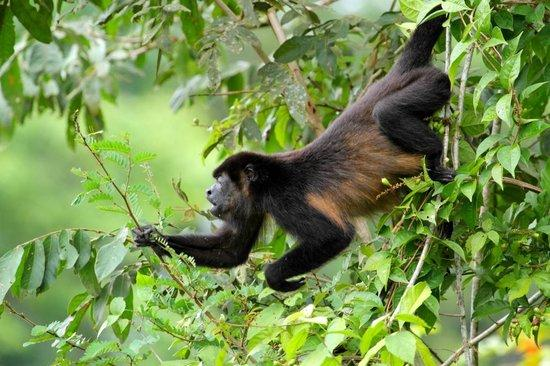monkey: (165, 17, 456, 289)
